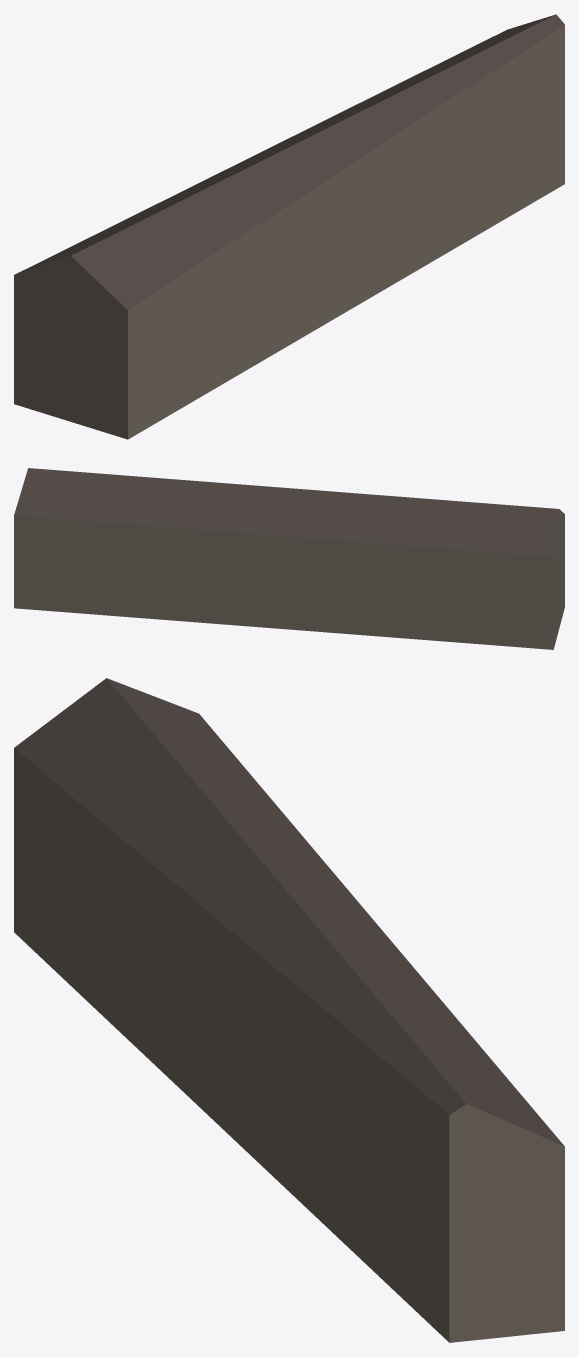
3 views of the same model, one above another, from view 1: azimuth 30°, elevation 25°; view 2: azimuth 150°, elevation 25°; view 3: azimuth 270°, elevation 25° (orthographic). The views are drawn at different scales.
Visible parts, largest first — view 1: HP-w1365659901; view 2: HP-w1365659901; view 3: HP-w1365659901.
Boxes of the visible parts, box(x1,y1,x2,y2) form: HP-w1365659901: box(14, 14, 564, 439); HP-w1365659901: box(14, 468, 564, 649); HP-w1365659901: box(14, 678, 564, 1342).
Size of the model in its own units: 46.58 by 11.58 by 24.38.
